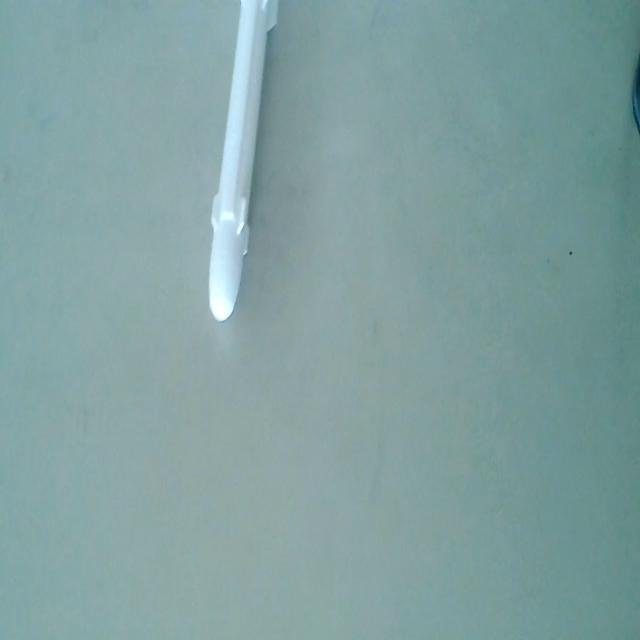Rocket: (202, 0, 280, 330)
